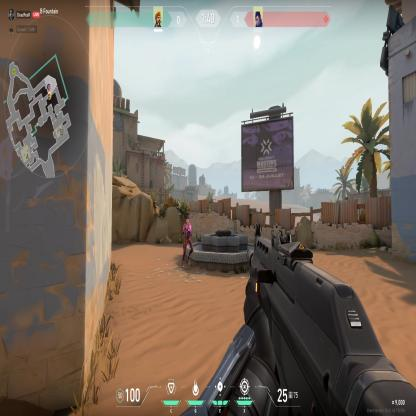enemy: (180, 213, 194, 270)
